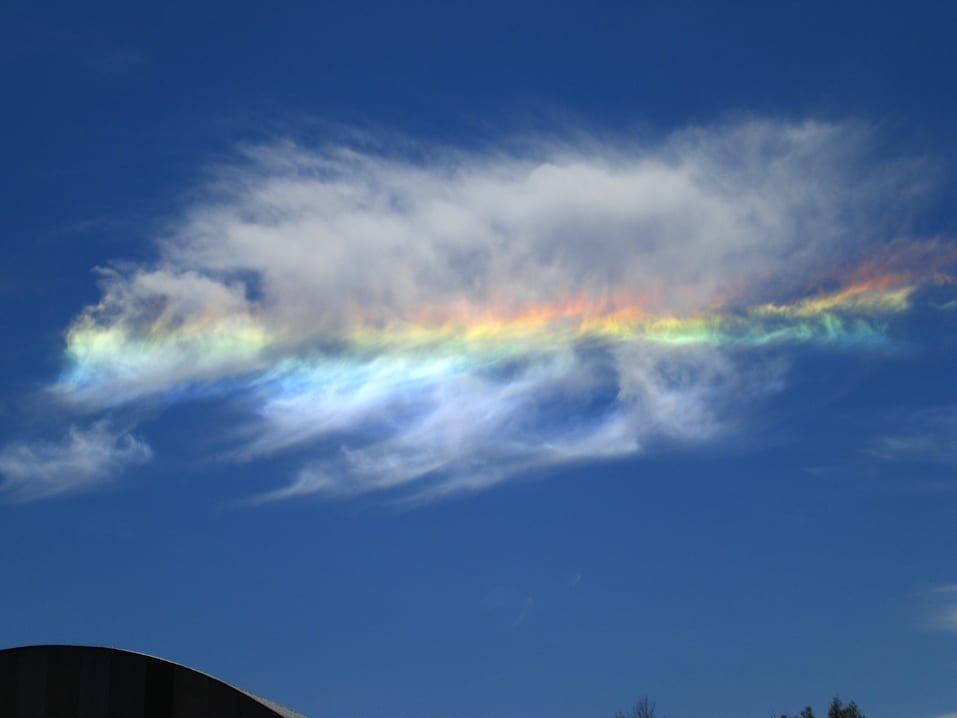Cirrus: (58, 96, 925, 510)
